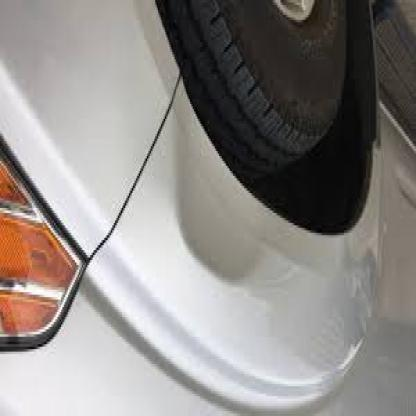dent: (164, 180, 260, 290)
